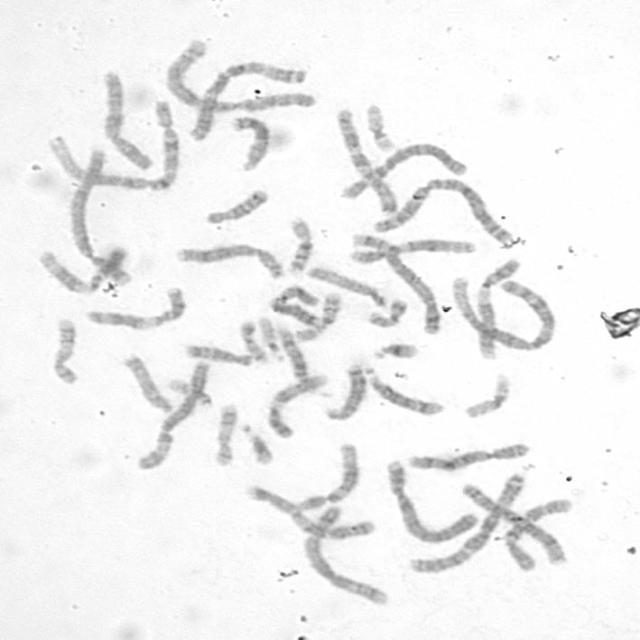A1: (39, 96, 180, 192), (447, 270, 557, 354)
A2: (159, 36, 316, 114), (366, 173, 514, 246)
A3: (404, 468, 527, 575), (182, 56, 310, 142)
B4: (62, 138, 134, 290), (379, 454, 479, 544)
B5: (346, 231, 443, 337), (297, 502, 391, 607)
C10: (456, 479, 569, 567), (499, 493, 574, 573)
C11: (33, 242, 132, 295), (79, 283, 188, 331)
C12: (289, 438, 361, 513), (344, 233, 477, 264)
C6: (130, 354, 213, 471), (333, 138, 469, 202)
C7: (240, 481, 377, 542), (330, 104, 401, 216)
C8: (169, 239, 285, 281), (401, 438, 532, 472)
C9: (469, 253, 523, 360), (261, 368, 331, 440)
D13: (319, 358, 368, 421), (225, 112, 271, 173)
D14: (357, 361, 446, 417), (271, 322, 312, 387)
D15: (301, 262, 390, 308), (116, 350, 174, 414)
E16: (290, 288, 343, 342), (279, 213, 315, 275)
E17: (45, 313, 80, 386), (207, 399, 238, 468)
E18: (198, 184, 270, 225), (180, 339, 256, 367)
F19: (458, 368, 512, 419), (359, 99, 397, 153)
F20: (362, 293, 410, 329), (234, 317, 269, 364)
G21: (235, 419, 274, 466), (366, 338, 420, 361)
G22: (162, 375, 214, 408), (252, 311, 282, 362)
X: (95, 67, 154, 172), (266, 281, 323, 329)
